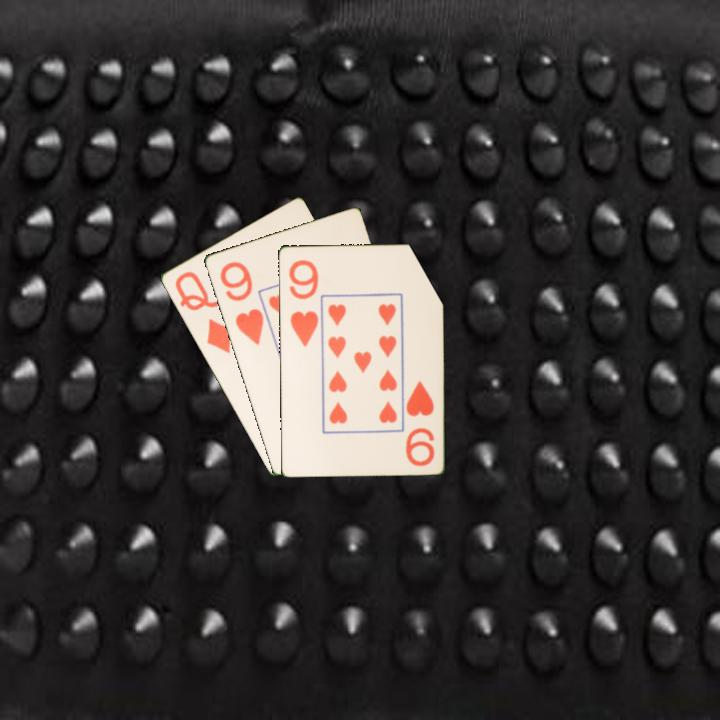9h: (216, 258, 266, 348), (285, 256, 321, 349), (402, 377, 437, 469)
Qd: (171, 267, 235, 356)
